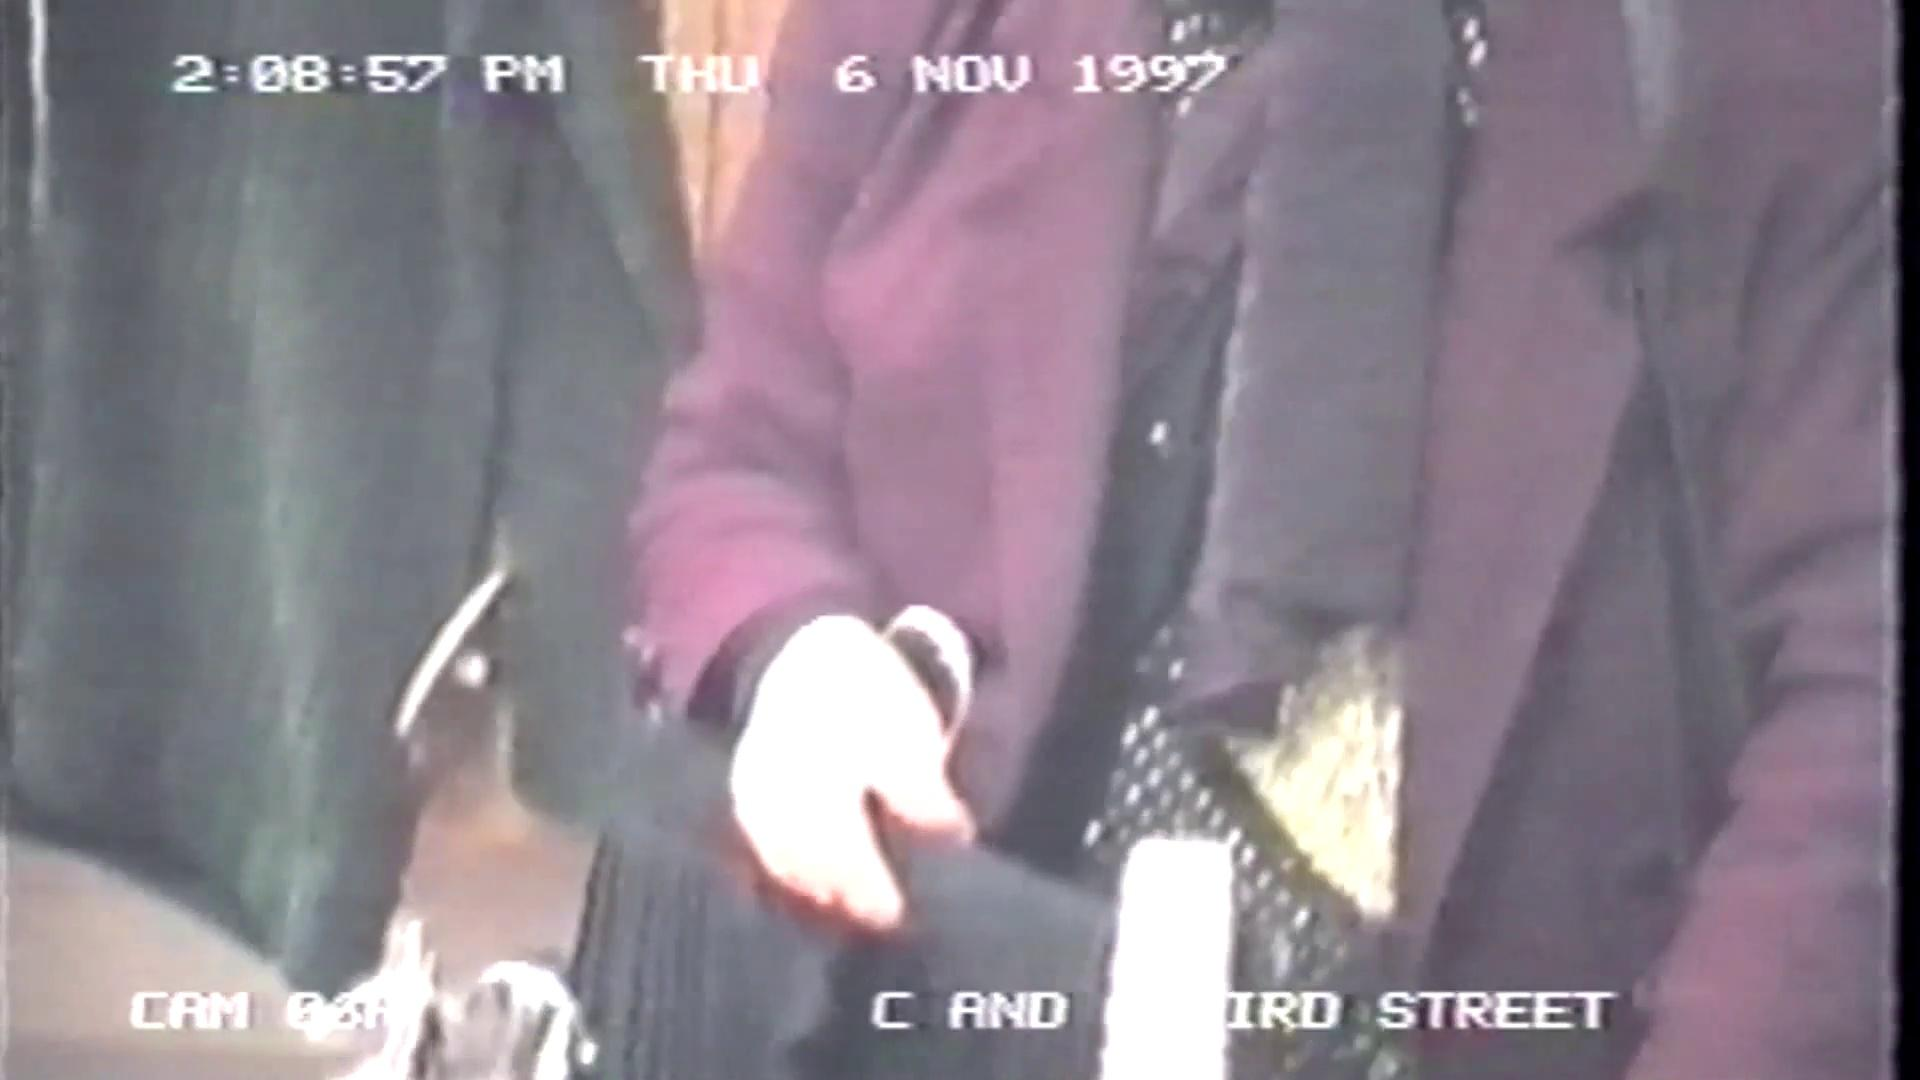1: (531, 796, 1149, 1080)
2: (533, 0, 1908, 1080)
persone: (1480, 711, 1882, 1080)
